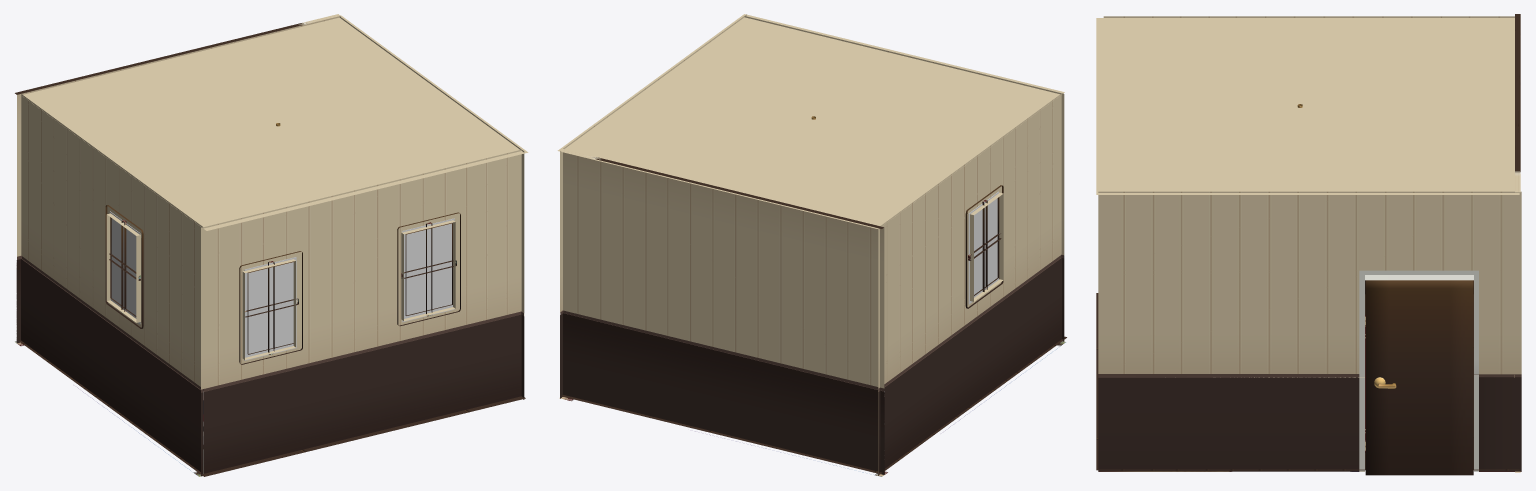
File: mesh_room_001.fbx
The picture shows the model from 3 angles, left to right: view 1: azimuth 30°, elevation 25°; view 2: azimuth 150°, elevation 25°; view 3: azimuth 270°, elevation 25°; orthographic projection. The views are drawn at different scales.
Visible parts, largest first — view 1: walls_w_floor, ceiling_dion, glass, windows; view 2: walls_w_floor, ceiling_dion, glass, windows; view 3: walls_w_floor, ceiling_dion, door.
Part boxes in pixels (x1,y1,x2,y2): walls_w_floor: (15, 14, 525, 476); ceiling_dion: (23, 15, 528, 230); glass: (109, 211, 454, 360); windows: (105, 205, 460, 364); walls_w_floor: (559, 14, 1066, 476); ceiling_dion: (557, 14, 1064, 228); glass: (968, 191, 998, 304); windows: (965, 185, 1003, 308); walls_w_floor: (1096, 14, 1521, 472); ceiling_dion: (1096, 18, 1519, 194); door: (1365, 280, 1473, 475).
Bounding box in the file's own units: 1082 × 760 × 1043.
